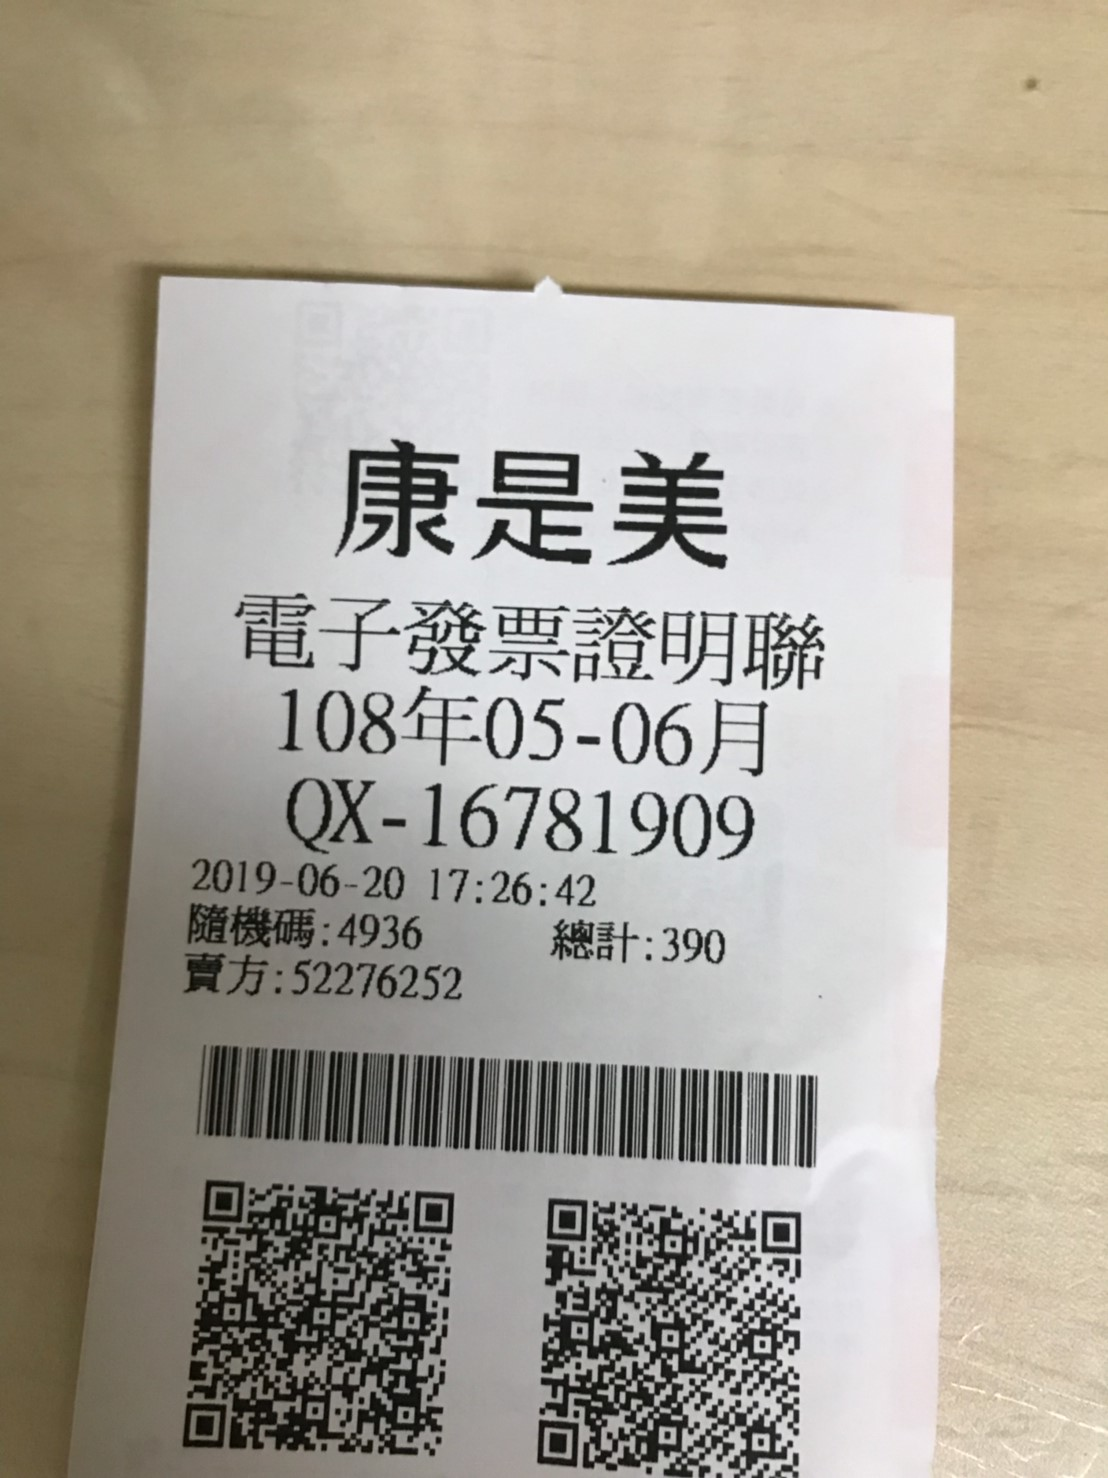Date_New: (271, 684, 770, 783)
Number_New: (416, 777, 759, 858)
